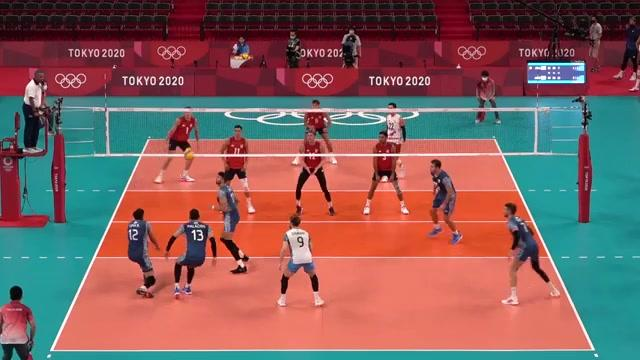ball: (182, 145, 197, 162)
